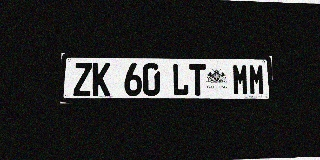0: (143, 63, 160, 96)
6: (124, 63, 142, 96)
K: (92, 63, 110, 96)
L: (172, 63, 189, 96)
M: (232, 64, 249, 95), (249, 64, 265, 95)
T: (189, 64, 206, 96)
Z: (73, 63, 92, 96)
